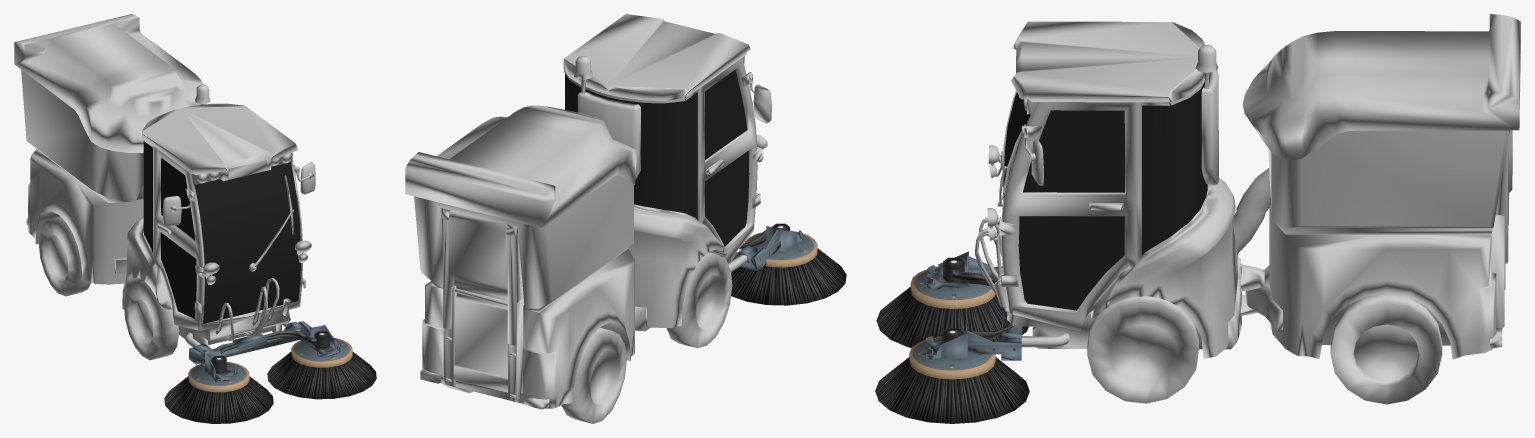
File: cleaning.fbx
The picture shows the model from 3 angles, left to right: view 1: azimuth 30°, elevation 25°; view 2: azimuth 150°, elevation 25°; view 3: azimuth 270°, elevation 25°; orthographic projection. The views are drawn at different scales.
Parts seen in each view (by area): view 1: WheelBR018_CleaningMachine01_0_1009_Mesh, Brush_CleaningMachine01_Brush_0_1015_Mesh.002, Brush_CleaningMachine01_Brush_0_1015_Mesh.001, WheelBR018_CleaningMachine01_0_1009_Mesh.002, WheelBR018_CleaningMachine01_0_1009_Mesh.005; view 2: WheelBR018_CleaningMachine01_0_1009_Mesh, Brush_CleaningMachine01_Brush_0_1015_Mesh.002, WheelBR018_CleaningMachine01_0_1009_Mesh.005, WheelBR018_CleaningMachine01_0_1009_Mesh.002; view 3: WheelBR018_CleaningMachine01_0_1009_Mesh, WheelBR018_CleaningMachine01_0_1009_Mesh.004, WheelBR018_CleaningMachine01_0_1009_Mesh.003, Brush_CleaningMachine01_Brush_0_1015_Mesh.001, Brush_CleaningMachine01_Brush_0_1015_Mesh.002.
Part boxes in pixels (x1,y1,x2,y2): WheelBR018_CleaningMachine01_0_1009_Mesh: [14, 14, 340, 381]; Brush_CleaningMachine01_Brush_0_1015_Mesh.002: [164, 362, 273, 423]; Brush_CleaningMachine01_Brush_0_1015_Mesh.001: [267, 337, 376, 399]; WheelBR018_CleaningMachine01_0_1009_Mesh.002: [124, 281, 178, 359]; WheelBR018_CleaningMachine01_0_1009_Mesh.005: [38, 216, 91, 296]; WheelBR018_CleaningMachine01_0_1009_Mesh: [405, 14, 802, 409]; Brush_CleaningMachine01_Brush_0_1015_Mesh.002: [731, 230, 846, 305]; WheelBR018_CleaningMachine01_0_1009_Mesh.005: [561, 328, 626, 423]; WheelBR018_CleaningMachine01_0_1009_Mesh.002: [666, 252, 732, 348]; WheelBR018_CleaningMachine01_0_1009_Mesh: [926, 14, 1520, 360]; WheelBR018_CleaningMachine01_0_1009_Mesh.004: [1330, 293, 1442, 404]; WheelBR018_CleaningMachine01_0_1009_Mesh.003: [1087, 296, 1198, 403]; Brush_CleaningMachine01_Brush_0_1015_Mesh.001: [875, 336, 1029, 423]; Brush_CleaningMachine01_Brush_0_1015_Mesh.002: [876, 266, 1028, 347].
Size of the model in its own units: 189 by 216 by 381.
